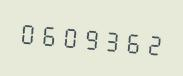nine: (80, 19, 100, 56)
six: (38, 15, 58, 53), (122, 22, 142, 60)
three: (101, 20, 121, 58)
two: (143, 24, 163, 62)
zero: (17, 13, 37, 51), (59, 17, 79, 54)
